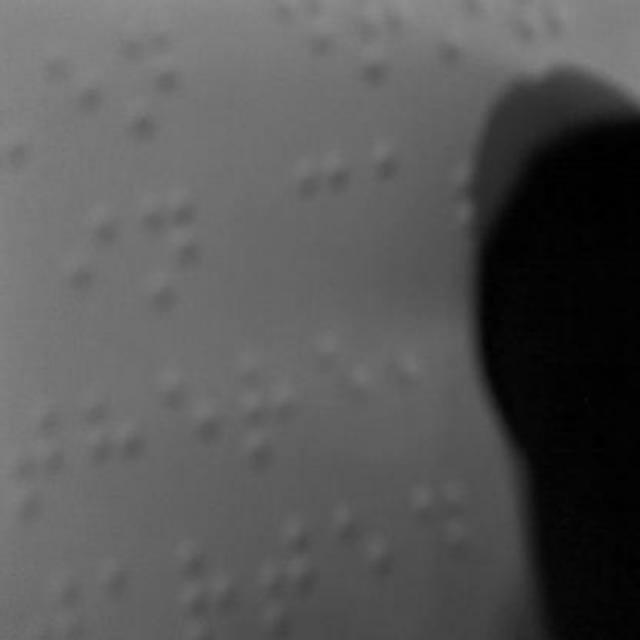braiile: (288, 144, 357, 292), (83, 380, 155, 518), (315, 322, 387, 460), (142, 180, 208, 330), (406, 468, 476, 608), (57, 202, 126, 342), (236, 344, 306, 480), (162, 361, 230, 497), (124, 10, 190, 146), (332, 493, 396, 631), (11, 404, 77, 536), (44, 34, 108, 168), (256, 508, 320, 640)
